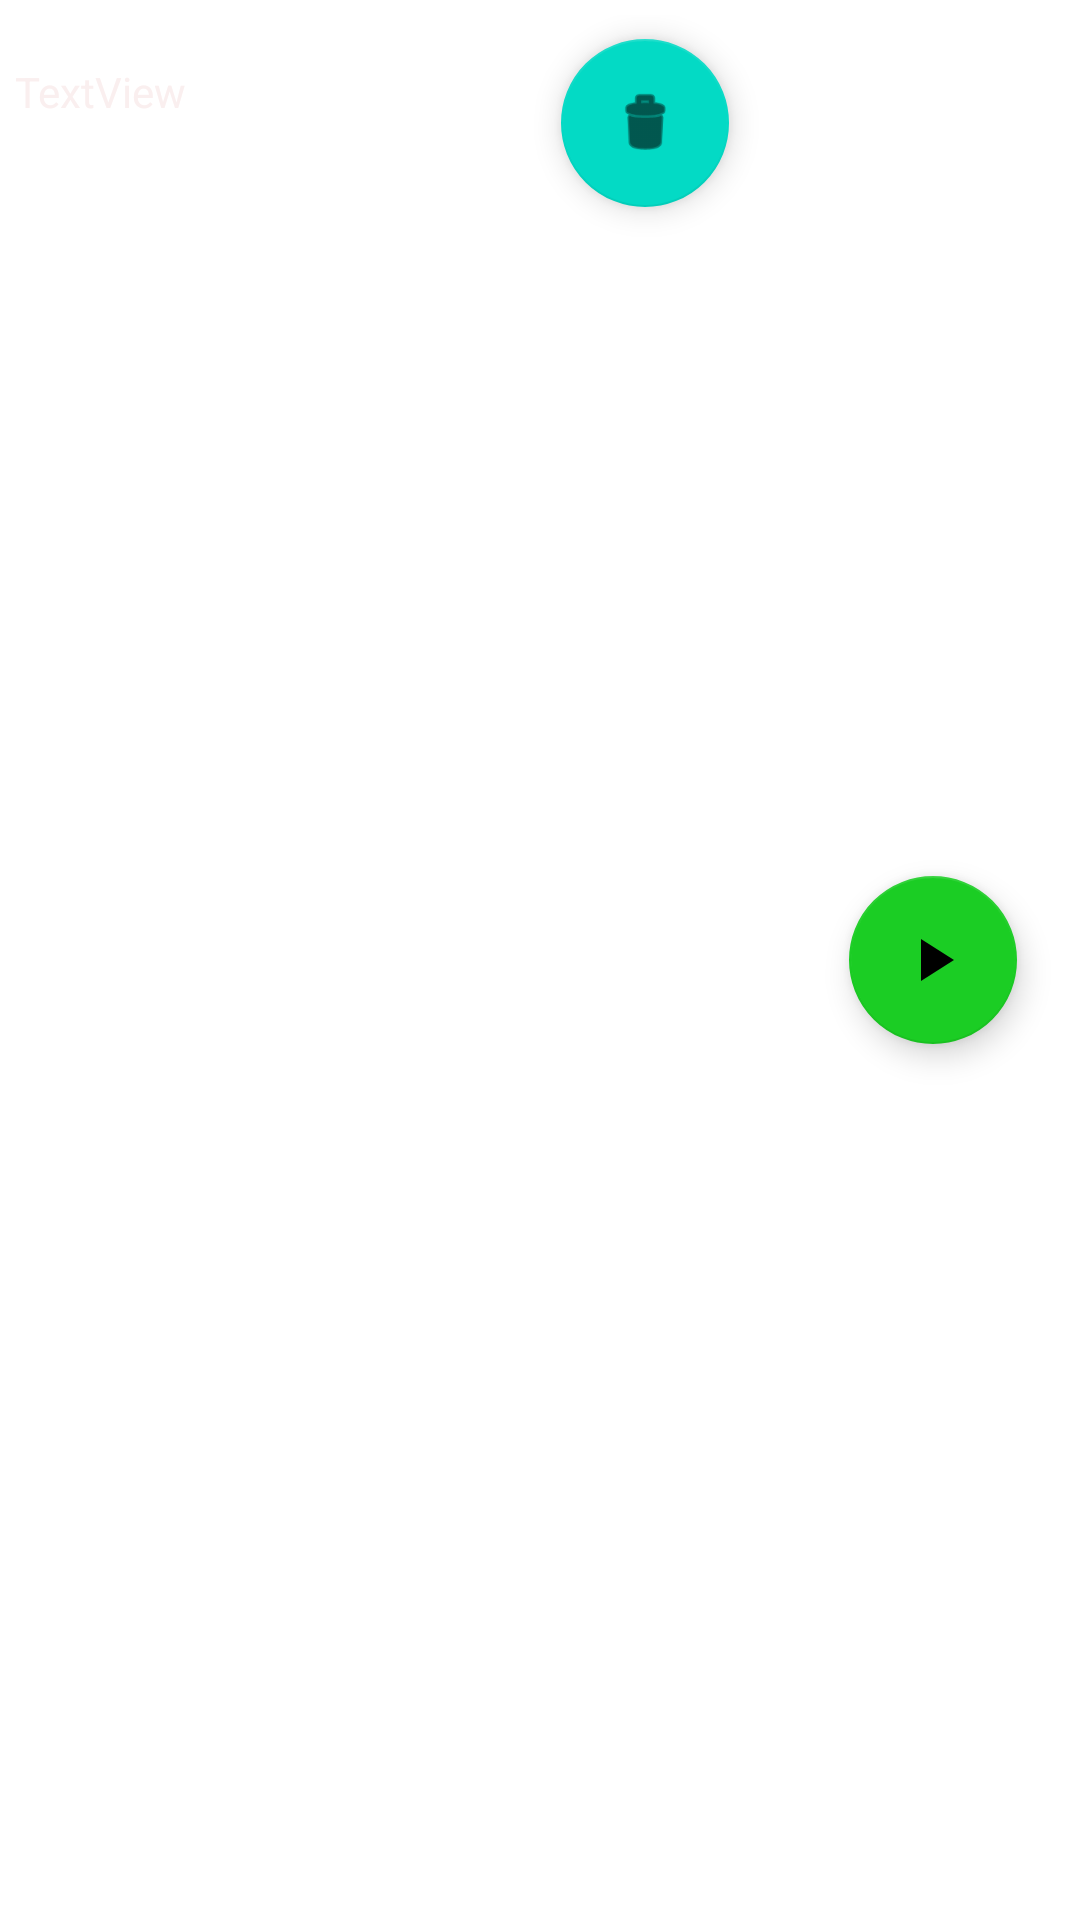

Icon click points for this 1080x1920 phone screenshot, format (x=x, y=y):
delete: (x=645, y=123)
play arrow: (x=933, y=960)
